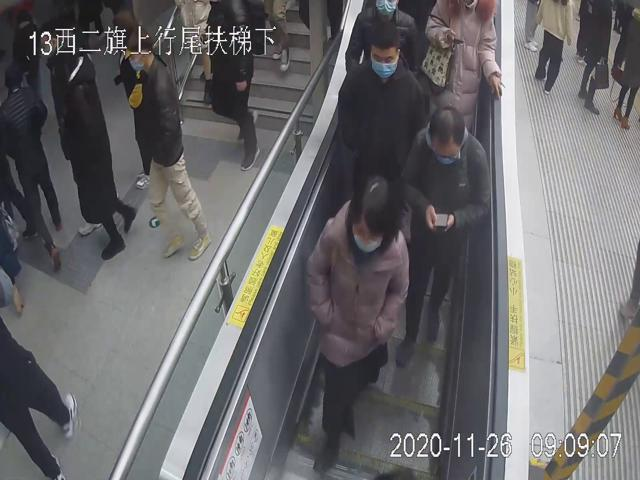person: (301, 169, 410, 476), (401, 104, 495, 369), (125, 28, 210, 262), (331, 23, 430, 209)
